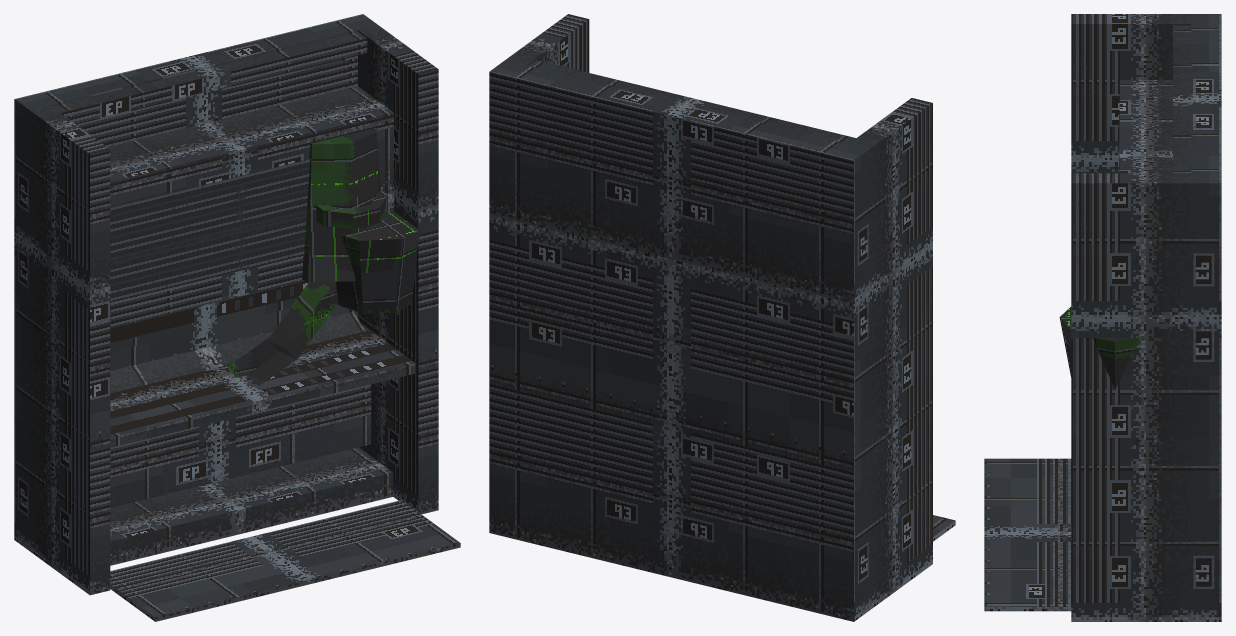
File: eps_state_refusal.glb
The picture shows the model from 3 angles, left to right: view 1: azimuth 30°, elevation 25°; view 2: azimuth 150°, elevation 25°; view 3: azimuth 270°, elevation 25°; orthographic projection. The views are drawn at different scales.
Visible parts, largest first — view 1: eps_state_refusal; view 2: eps_state_refusal; view 3: eps_state_refusal.
Part boxes in pixels (left/top/right/bottom): eps_state_refusal: left=14, top=14, right=460, bottom=621; eps_state_refusal: left=489, top=14, right=955, bottom=621; eps_state_refusal: left=984, top=14, right=1221, bottom=621.
Bounding box in the file's own units: 2.46 × 2.9 × 1.42.
5 materials, 4 textured.
